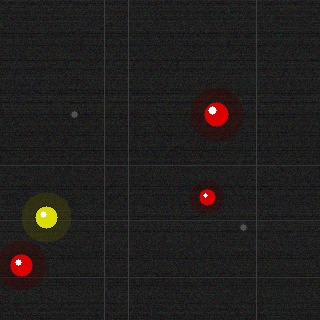red_fault: (202, 100, 230, 128), (8, 252, 34, 278), (197, 187, 217, 207)
yellow_warning: (33, 204, 59, 230)
